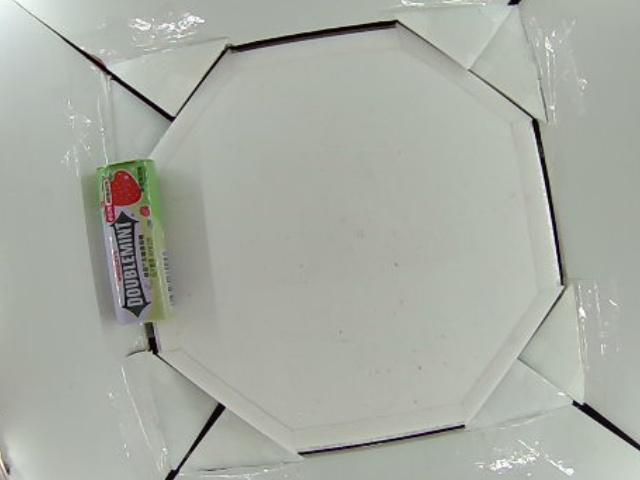Bottle: (98, 157, 175, 327)
